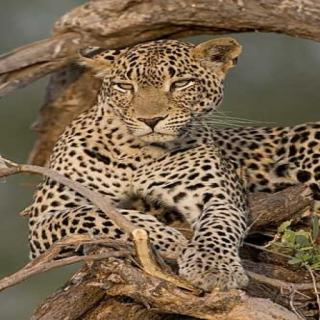Leopard: (37, 34, 320, 279)
